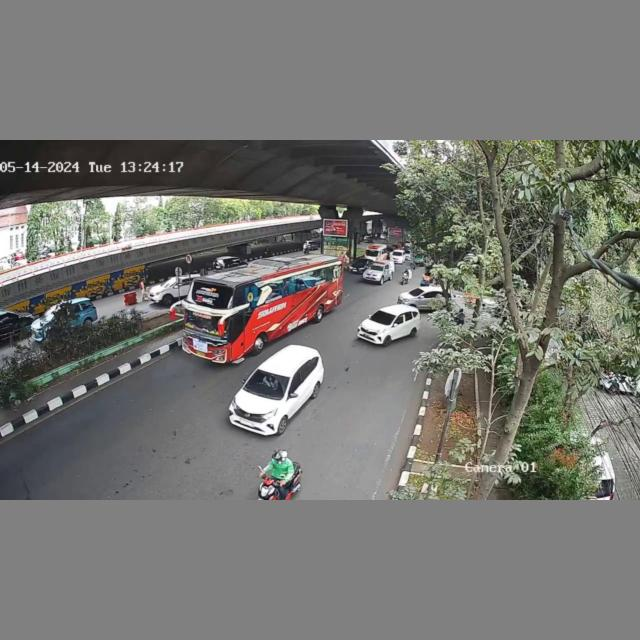windshield: (249, 369, 288, 395), (368, 308, 396, 326)
